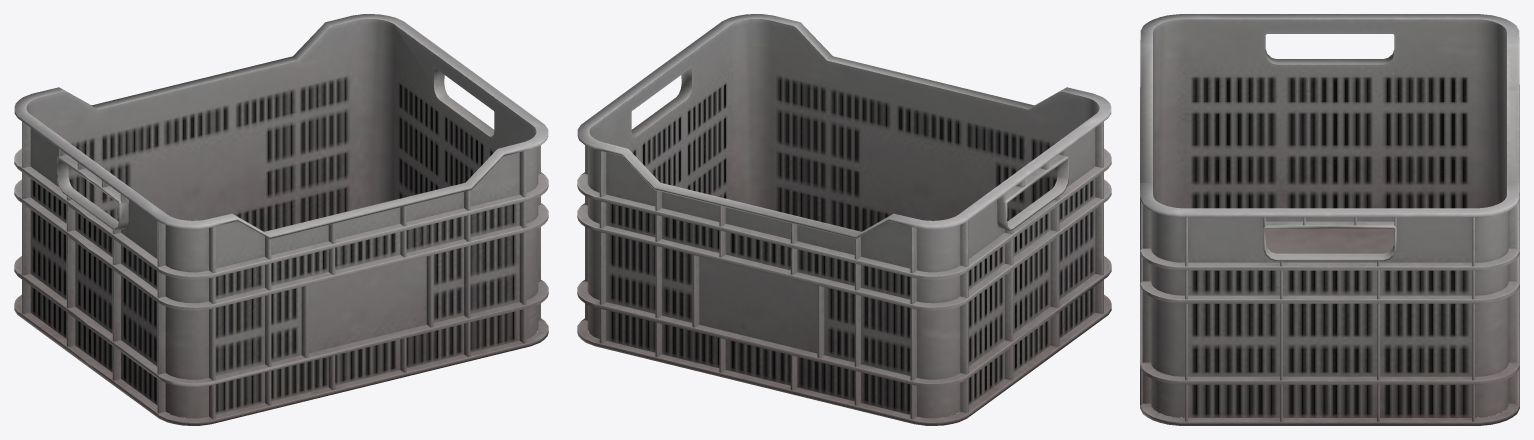
The model's file is crate.glb.
3 views of the same model, side by side, from view 1: azimuth 30°, elevation 25°; view 2: azimuth 150°, elevation 25°; view 3: azimuth 270°, elevation 25° (orthographic). The views are drawn at different scales.
Parts seen in each view (by area): view 1: plastic_crate_02; view 2: plastic_crate_02; view 3: plastic_crate_02.
Boxes of the visible parts, <box> form: plastic_crate_02: <box>14,14,548,425</box>; plastic_crate_02: <box>577,14,1111,425</box>; plastic_crate_02: <box>1140,14,1519,425</box>.
Bounding box in the file's own units: 0.5055 × 0.2541 × 0.4055.
1 material, 1 textured.
